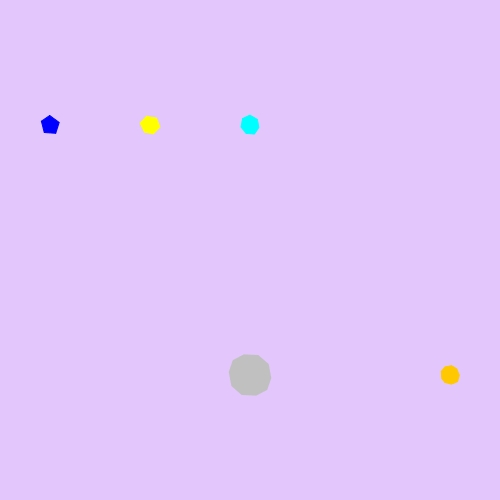decagon: (224, 351, 277, 399)
heptagon: (236, 111, 265, 139)
hexagon: (135, 112, 165, 138)
nonagon: (436, 361, 465, 389)
pentagon: (36, 111, 64, 139)
